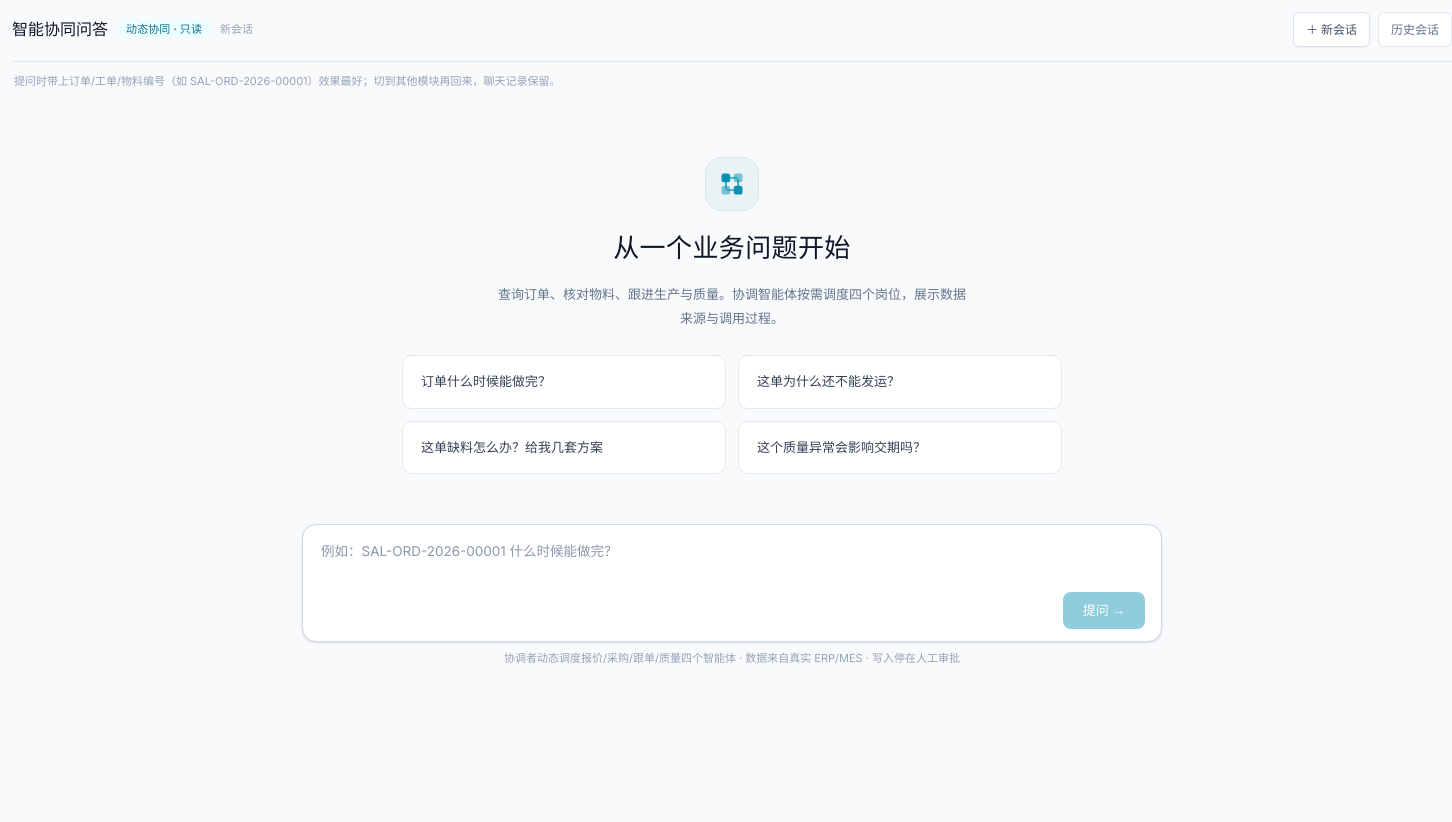
Scenario: AssistantPanel 连续聊天与页面上下文（交接文档回归） › 历史会话：展开列表、点选旧会话即恢复其消息（2026-10-02 新增）
The width and height of the screenshot is (1452, 822).
Click the heading "历史会话": (1415, 30) [1378,12,1451,47]
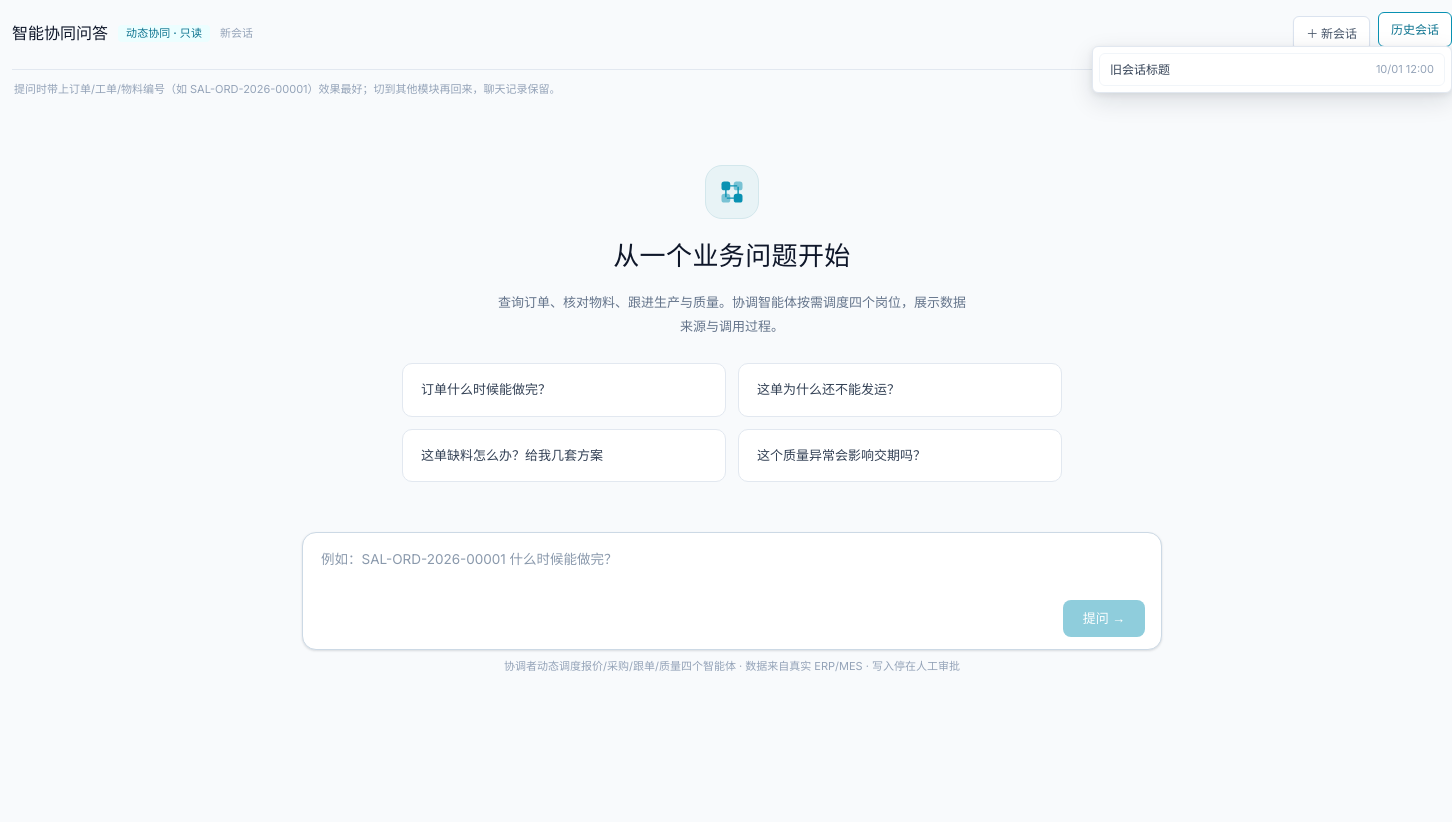
Expected: the button with class "assistant-session-row" is shown
Click the button with class "assistant-session-row": (1140, 70) [1099,53,1445,86]
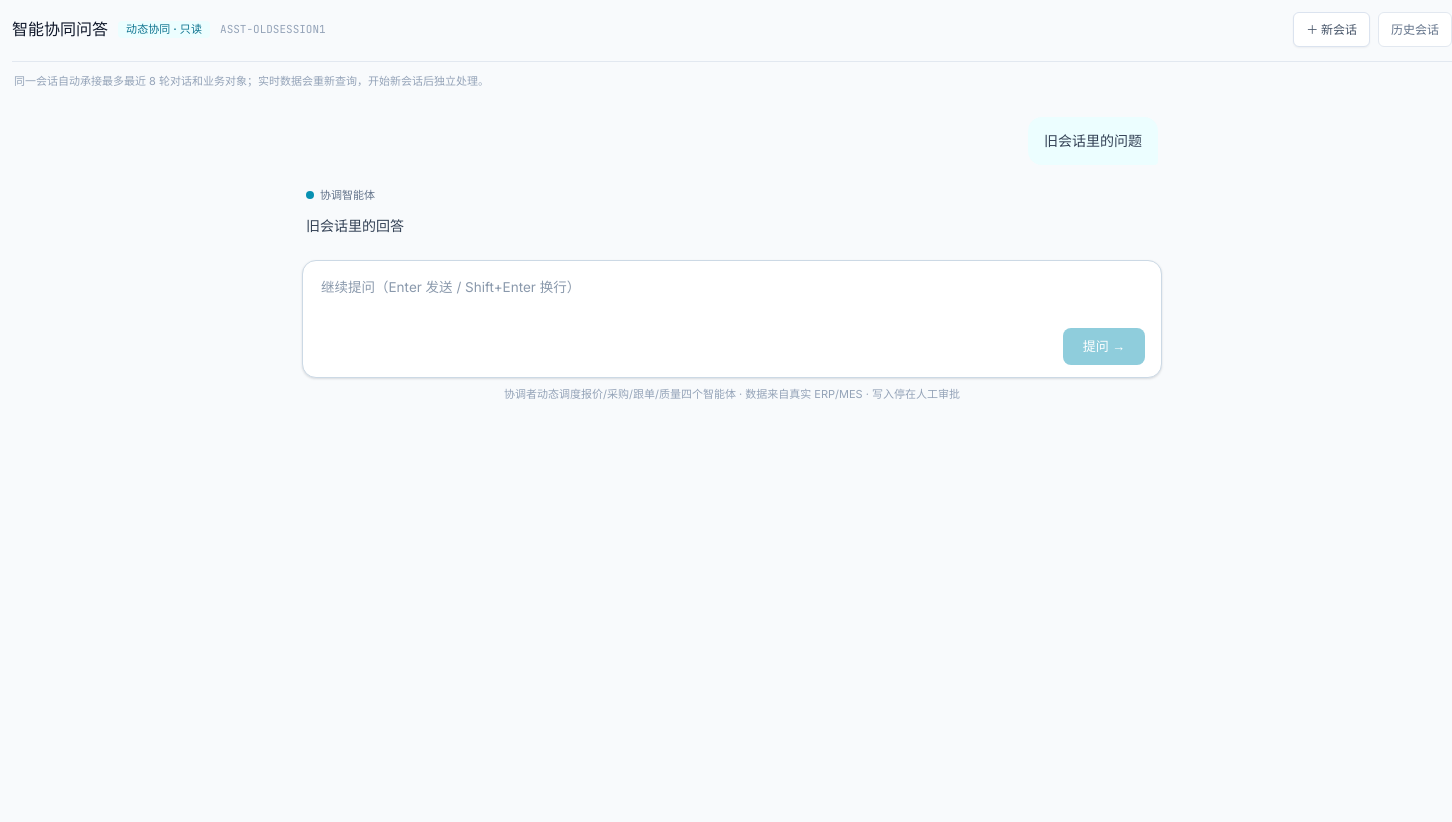
Expected: the text "旧会话里的问题" is shown, [1044,129,1142,153]
Expected: the text "旧会话里的回答" is shown, [306,217,404,234]
